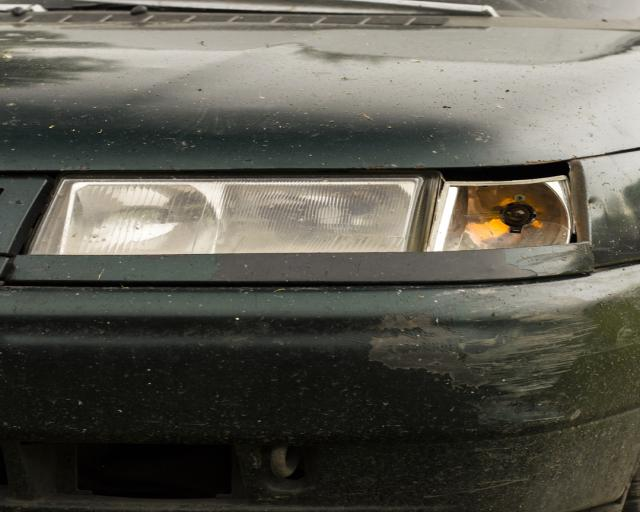lamp broken: (425, 161, 580, 253)
scratch: (372, 285, 596, 489)
